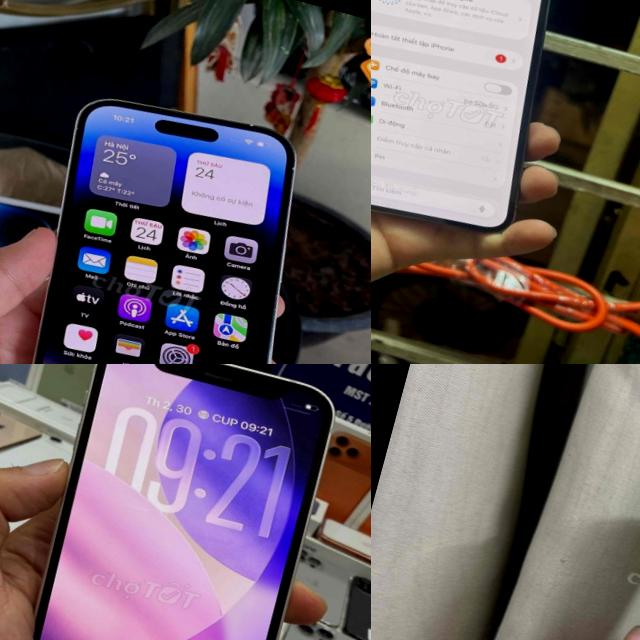gen_12_13: (2, 364, 354, 640), (371, 0, 549, 230)
gen_14: (0, 72, 350, 364)
